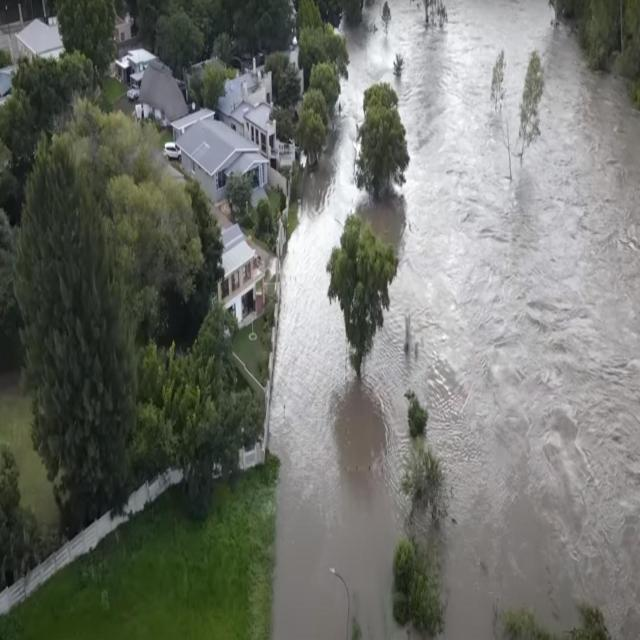flood: (269, 0, 640, 638)
house: (178, 110, 270, 220), (115, 46, 192, 127), (219, 215, 264, 325), (222, 56, 278, 106), (12, 16, 66, 64), (238, 105, 285, 160)
